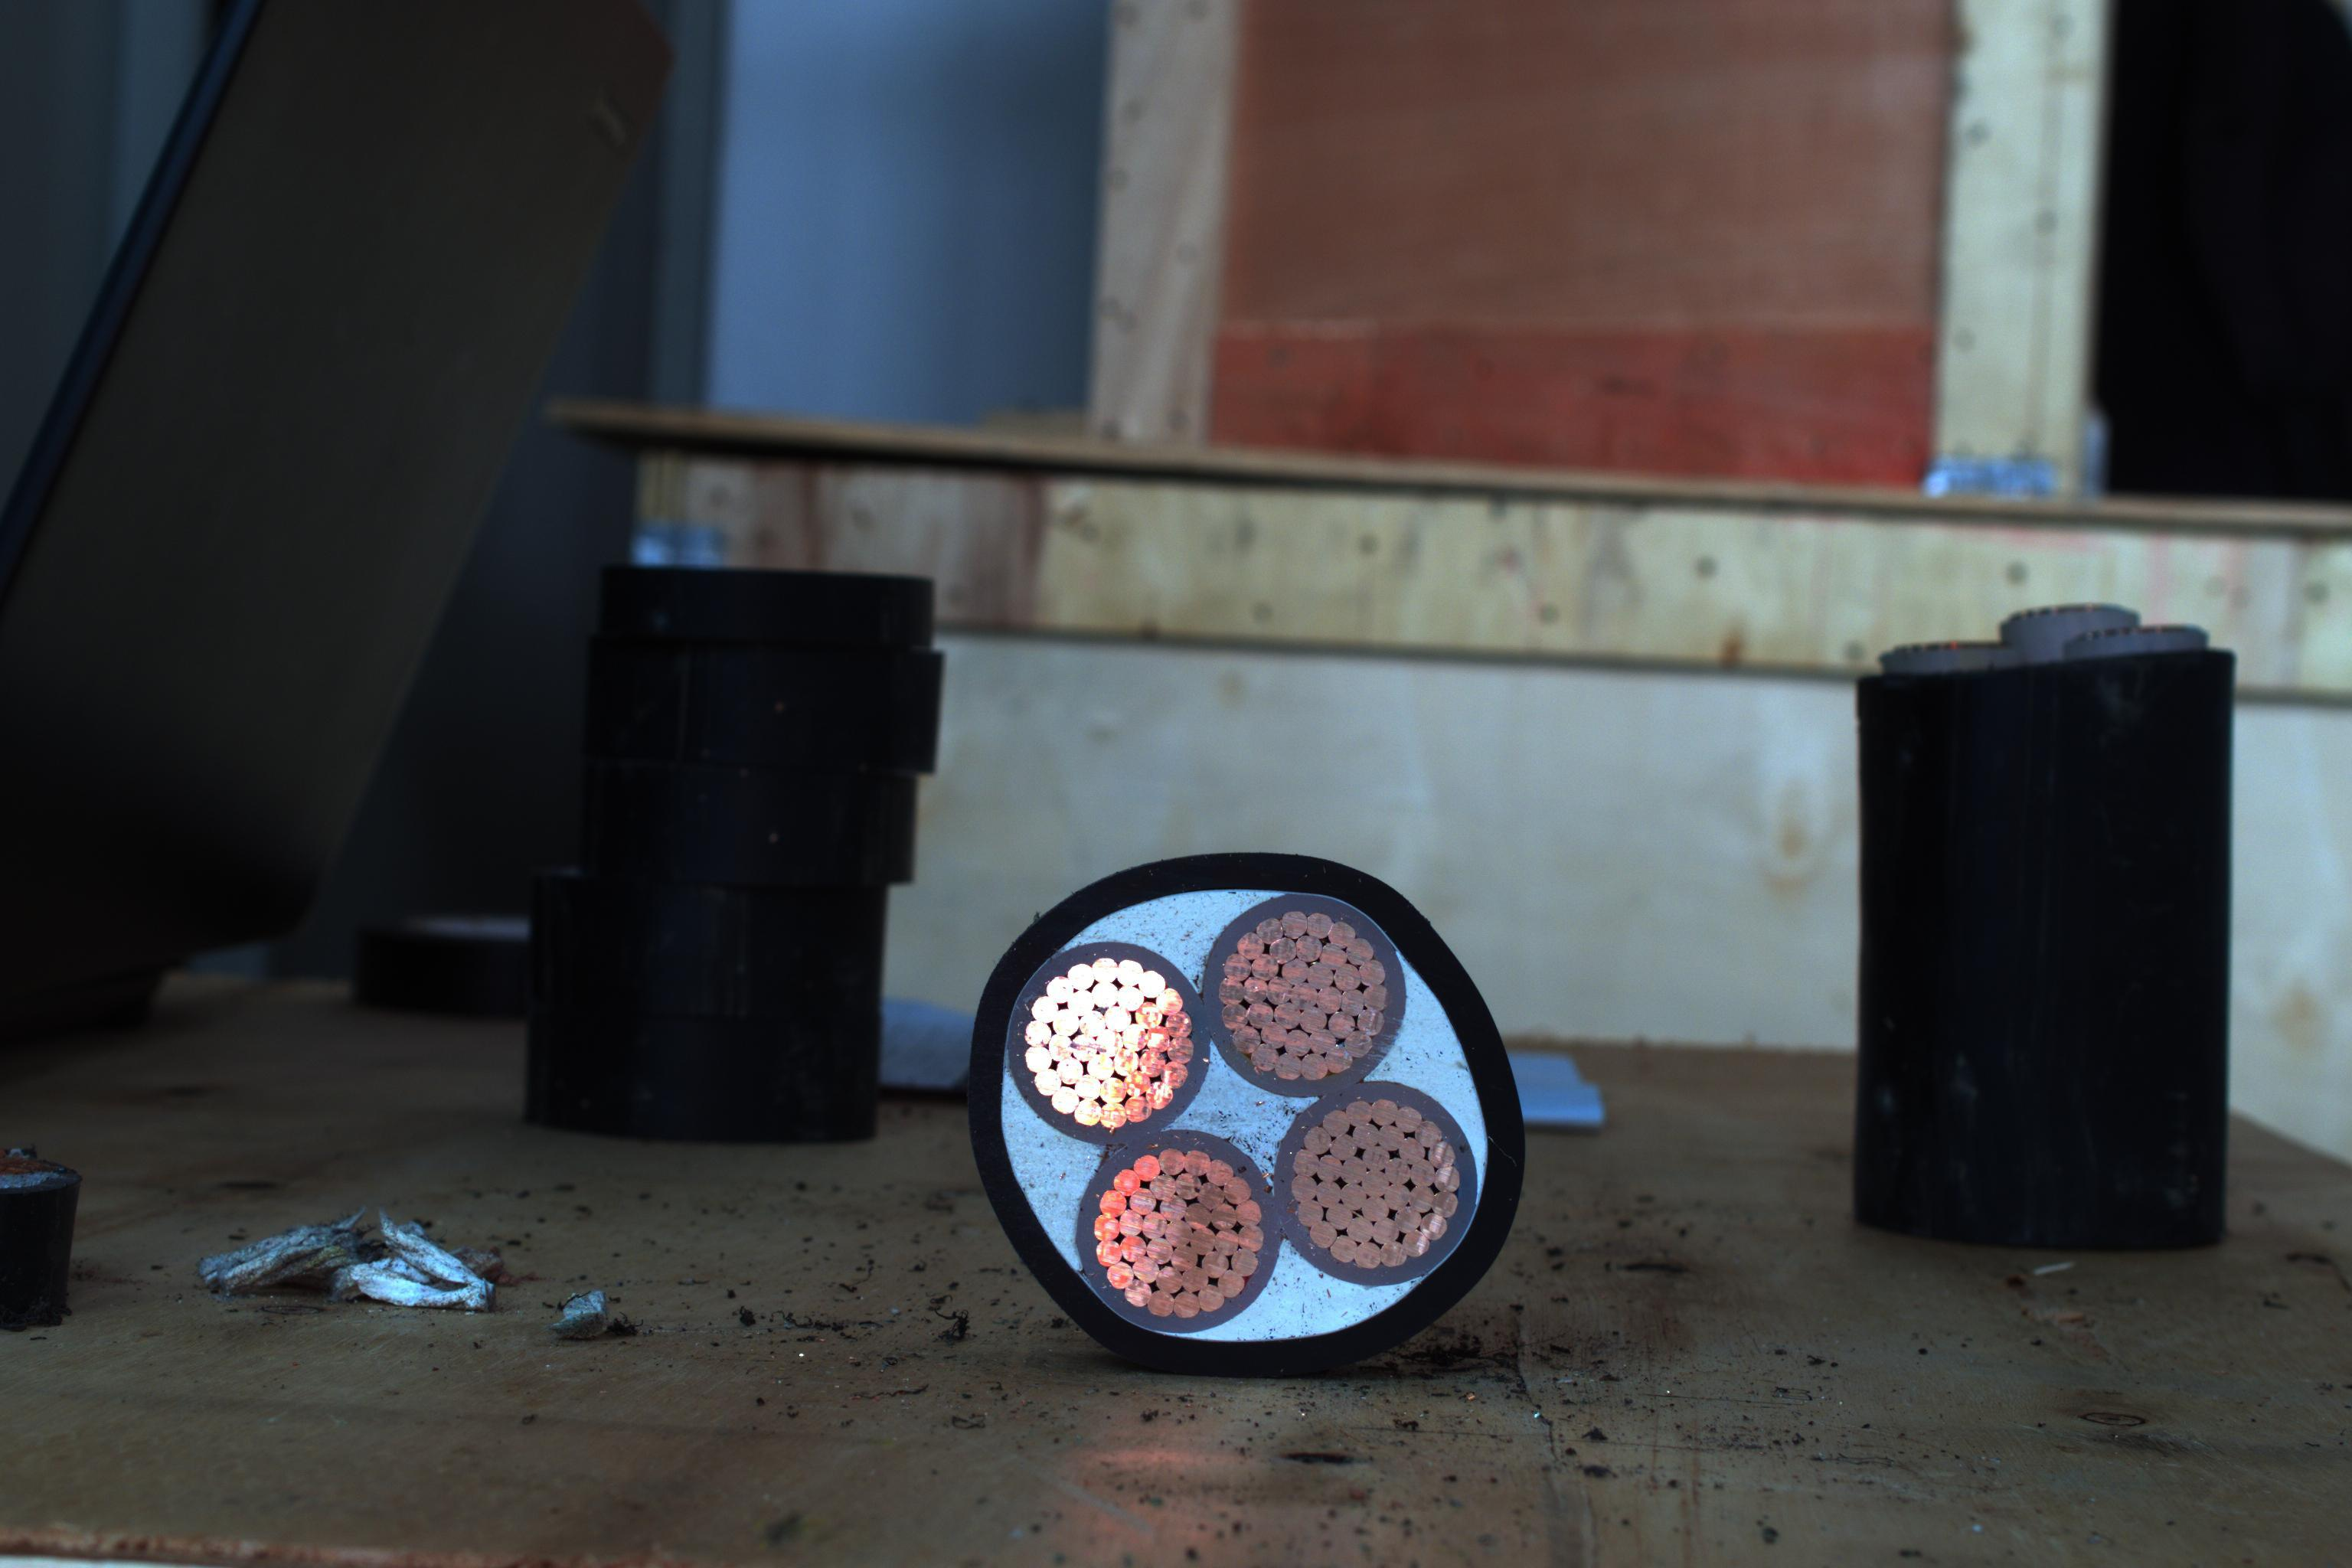YJV_0.6_1kV_4x240: (966, 864, 1508, 1363)
